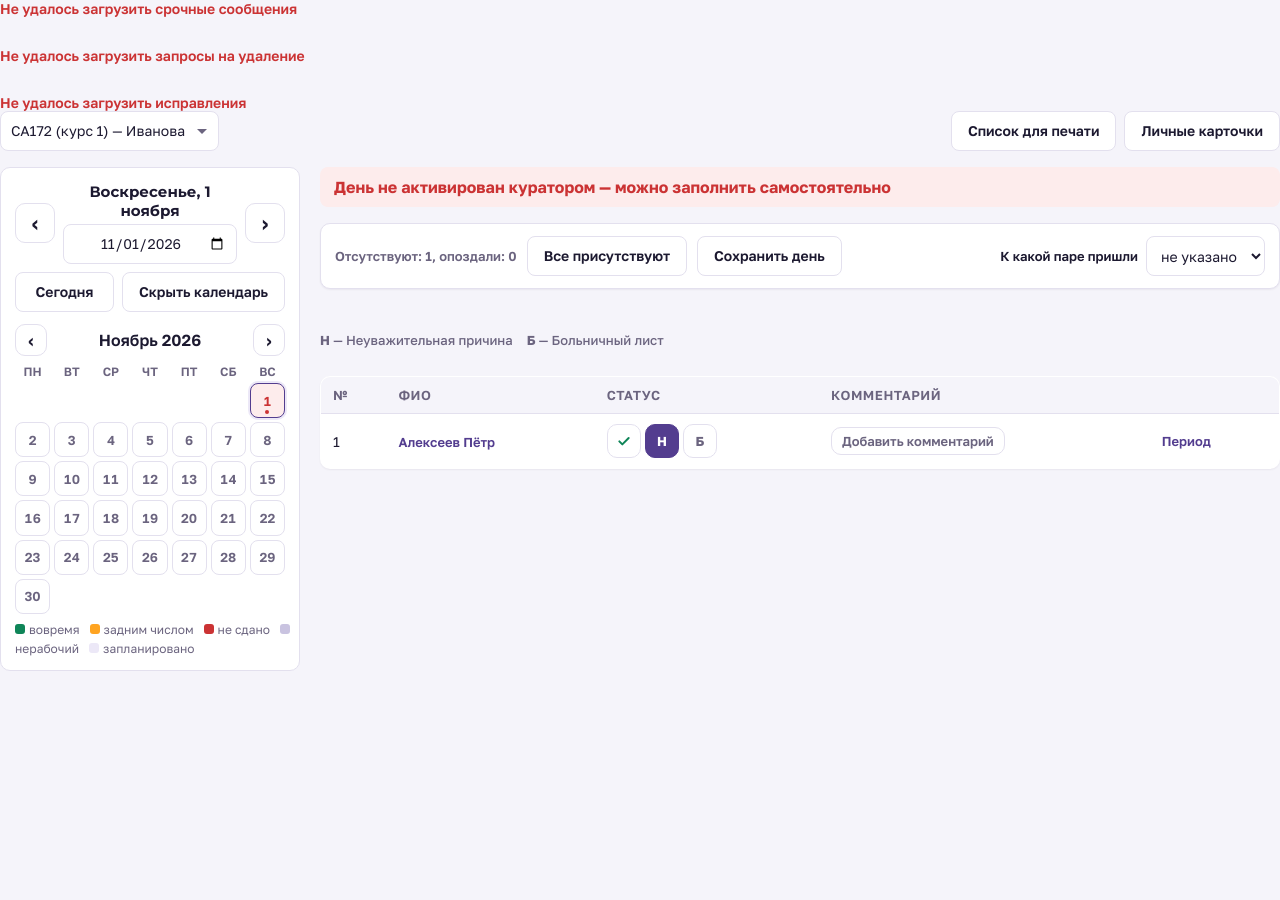
Test: GroupJournalTab — комментарий к отметке › видно, кто и когда правил отметку
Expected: the link "Алексеев Пётр" is shown, left=394, top=432, right=499, bottom=452
Click the button "Добавить комментарий": [918, 441] box left=831, top=427, right=1005, bottom=455
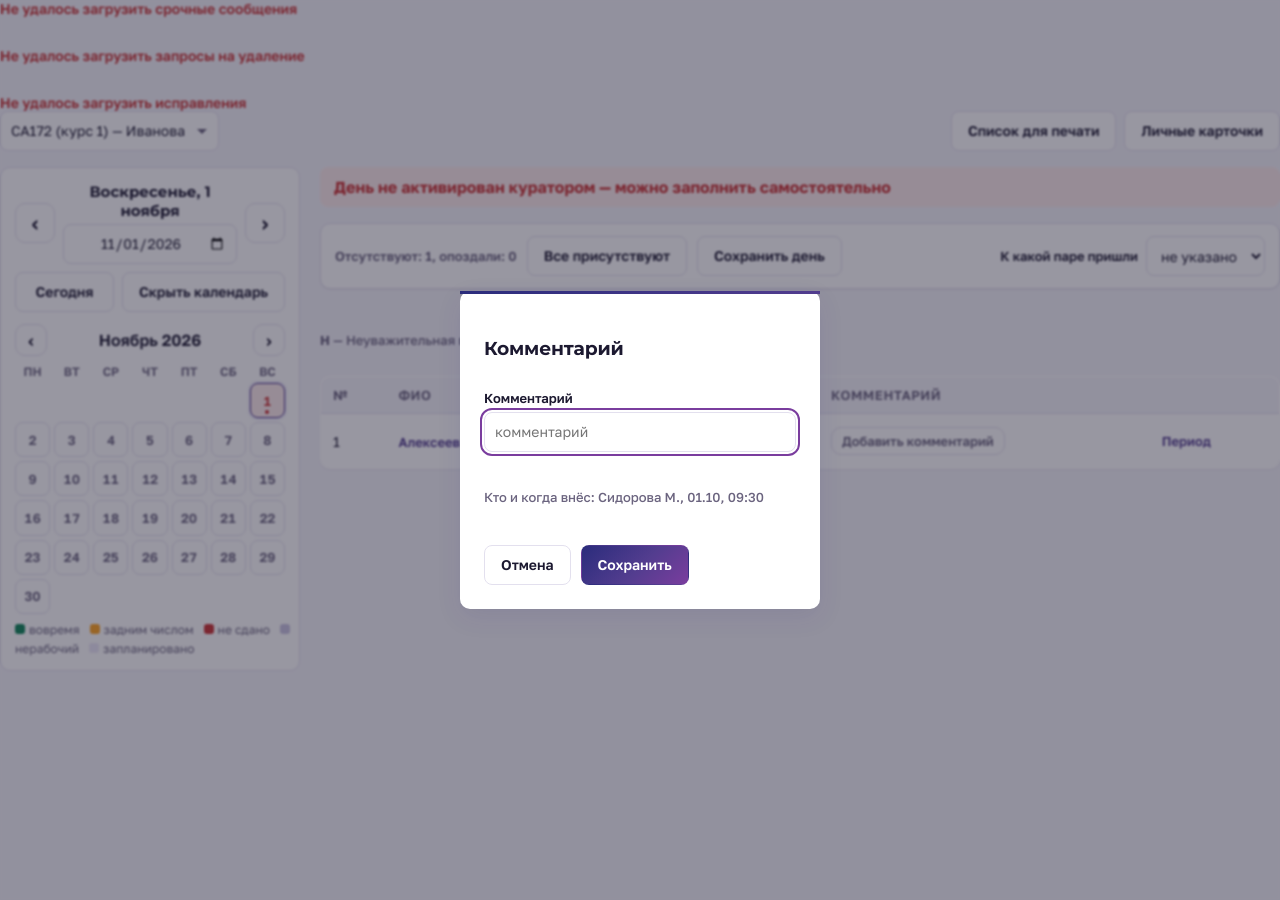
Now the text "Кто и когда внёс: Сидорова М., 01.10, 09:30" is shown, box left=484, top=489, right=796, bottom=505
